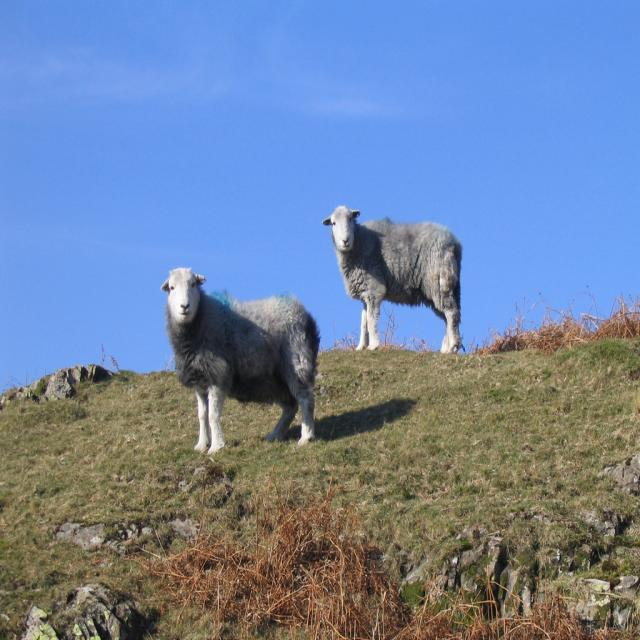Sheep: (156, 266, 324, 456), (323, 206, 466, 356)
